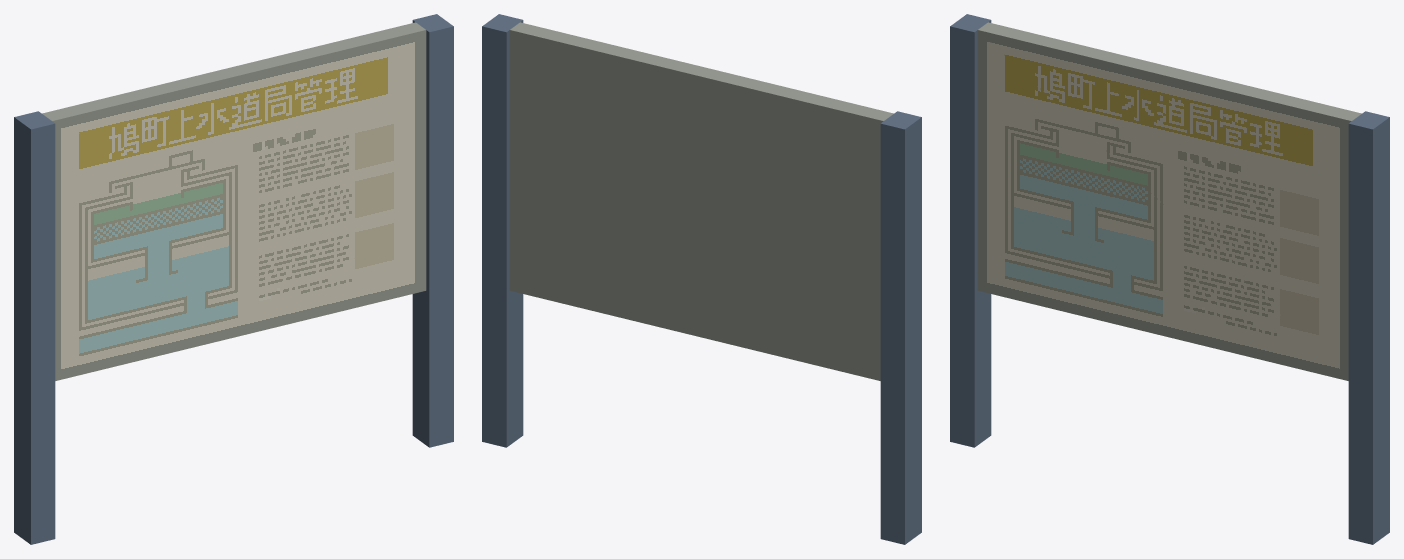
File: 0317_Water_Tank_Sign.glb
3 views of the same model, side by side, from view 1: azimuth 30°, elevation 25°; view 2: azimuth 150°, elevation 25°; view 3: azimuth 330°, elevation 25° (orthographic).
Visible parts, largest first — view 1: part_0; view 2: part_0; view 3: part_0.
Boxes of the visible parts, x1,y1,x2,y2 form: part_0: (14,14,453,544); part_0: (482,14,921,544); part_0: (950,14,1389,544).
Bounding box in the file's own units: 2.04 × 1.92 × 0.1413.
1 material, 1 textured.
